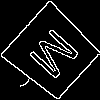M: (26, 27, 88, 88)
